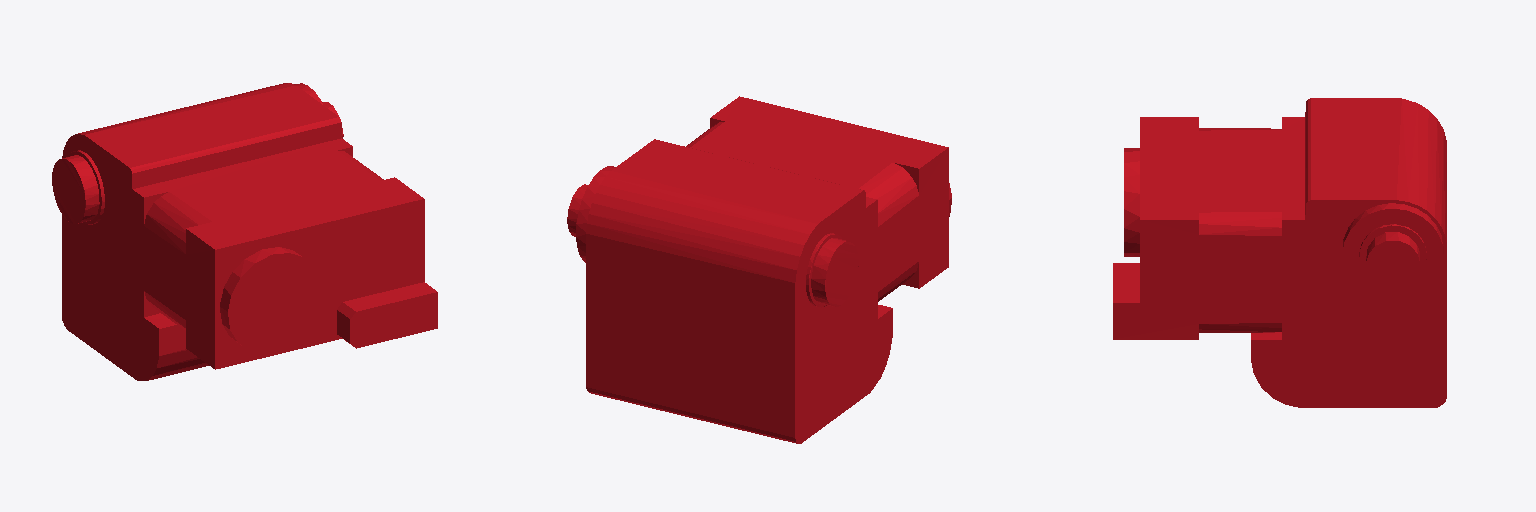
File: 6_thumb.obj
3 views of the same model, side by side, from view 1: azimuth 30°, elevation 25°; view 2: azimuth 150°, elevation 25°; view 3: azimuth 270°, elevation 25° (orthographic).
Visible parts, largest first — view 1: 6_thumb; view 2: 6_thumb; view 3: 6_thumb.
Boxes of the visible parts, x1=… form: 6_thumb: x1=52, y1=83, x2=437, y2=380; 6_thumb: x1=567, y1=96, x2=951, y2=443; 6_thumb: x1=1113, y1=98, x2=1446, y2=407.
Bounding box in the file's own units: 0.0447 × 0.034 × 0.0495.